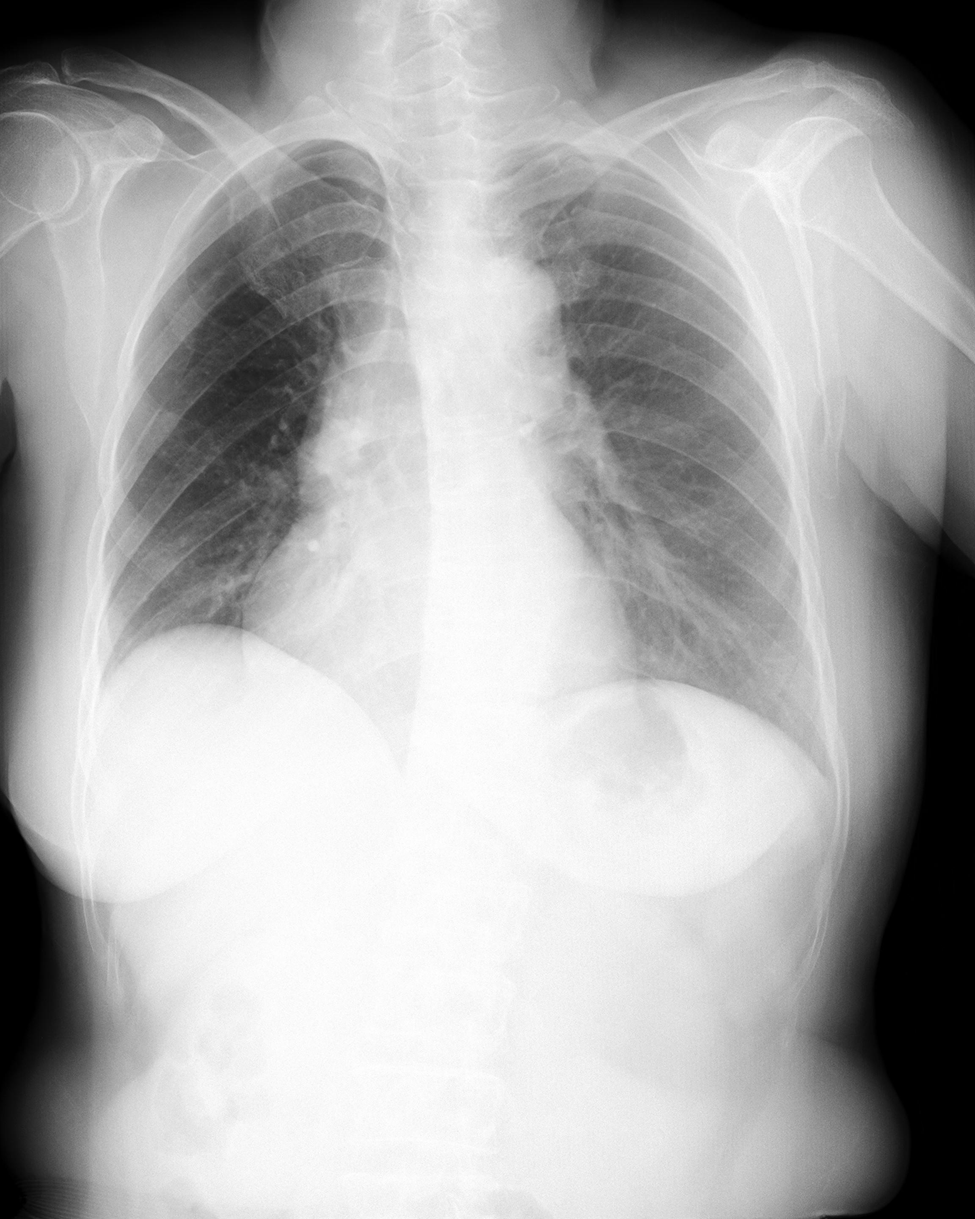Aortic enlargement: (448, 260, 567, 382)
